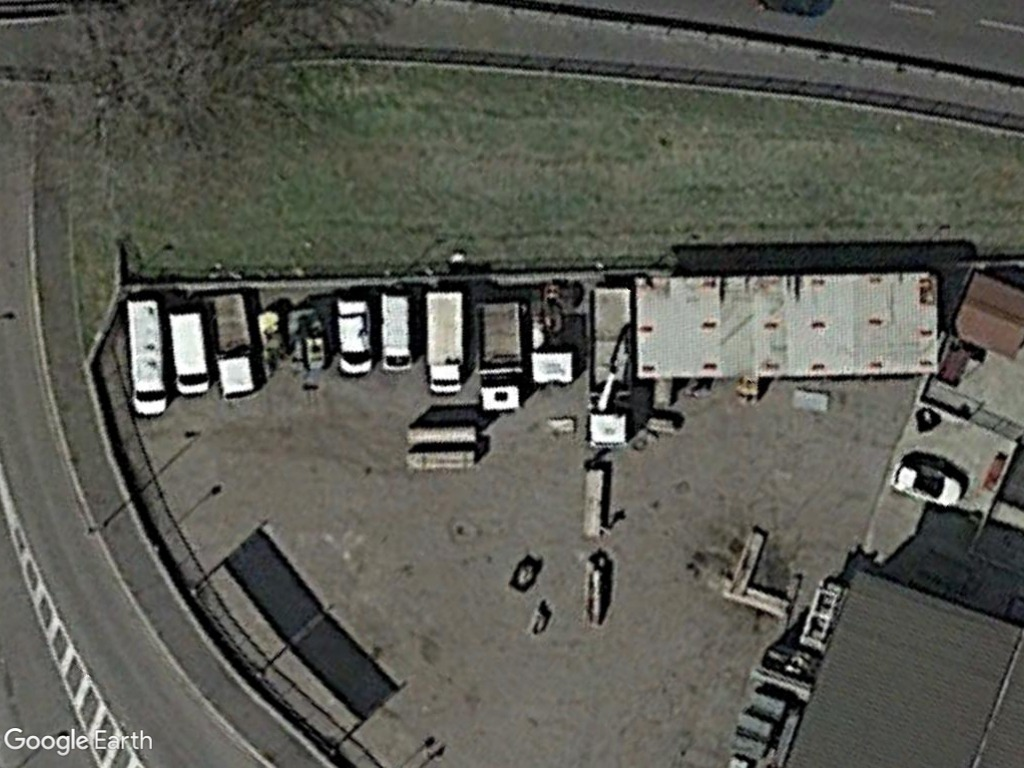car: (887, 456, 966, 512), (332, 292, 376, 378)
other: (472, 296, 530, 420)
truck: (422, 288, 467, 395)
van: (122, 297, 169, 415), (168, 301, 214, 399), (378, 288, 415, 378)
